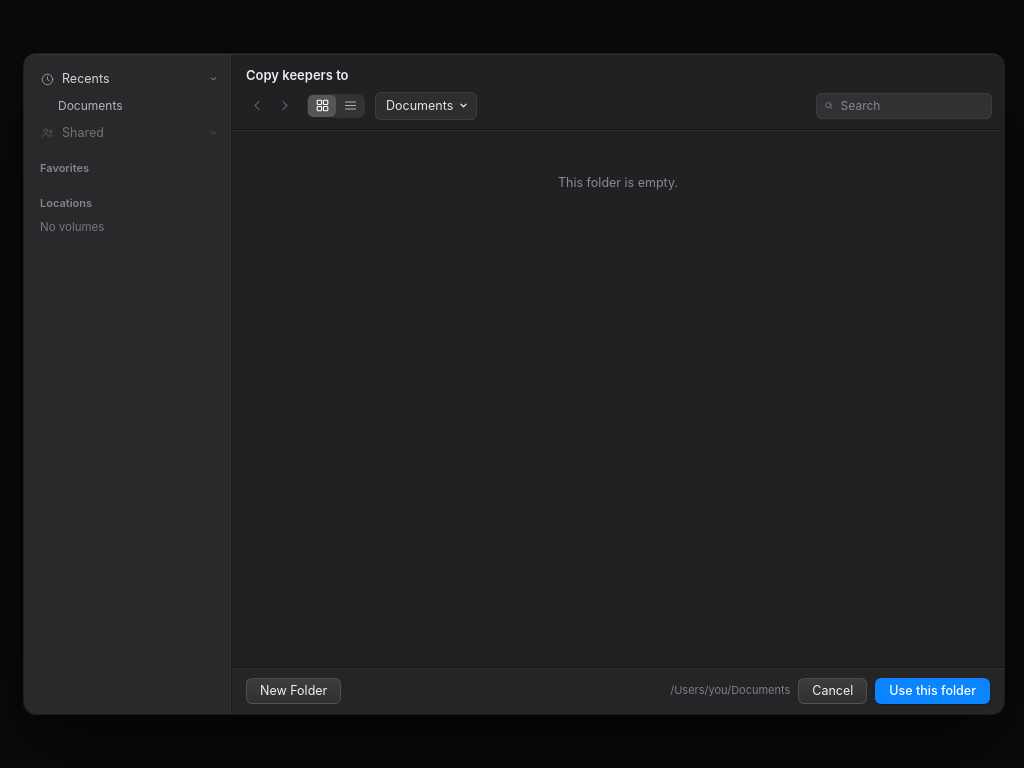
the New Folder prompt › a failed create keeps the prompt open with the error
The image size is (1024, 768).
Click the button "New Folder": (294, 691) [246,678,341,704]
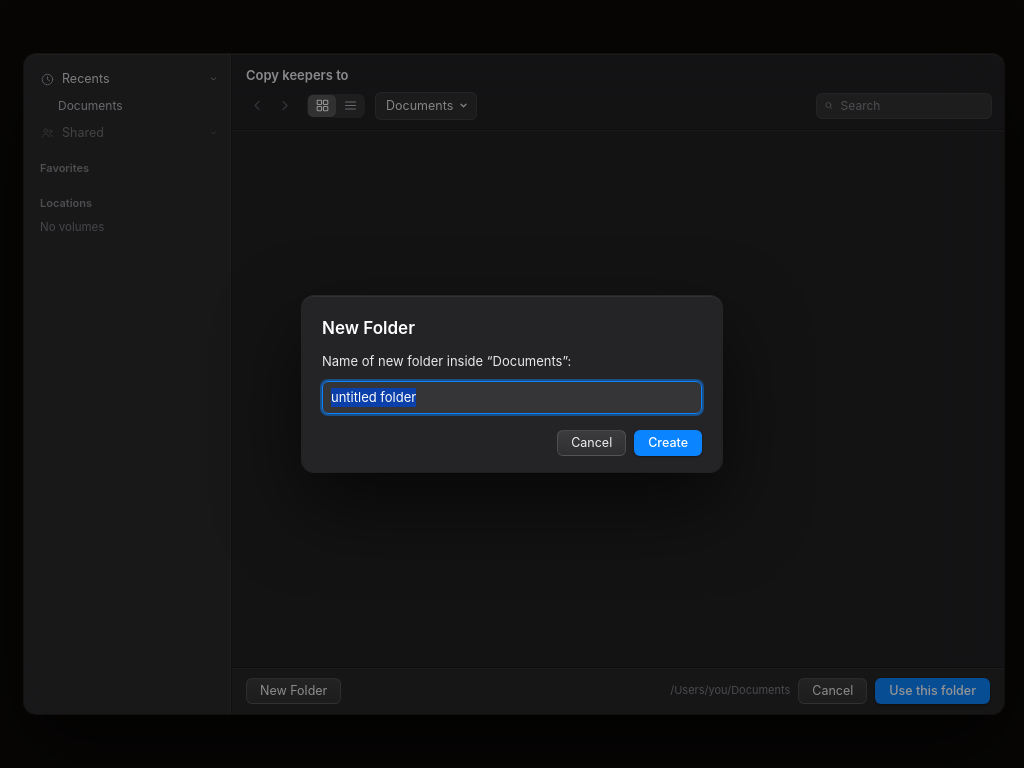
Replace the text in the field named "New folder name" with "delivery": (512, 398) [322,381,702,414]
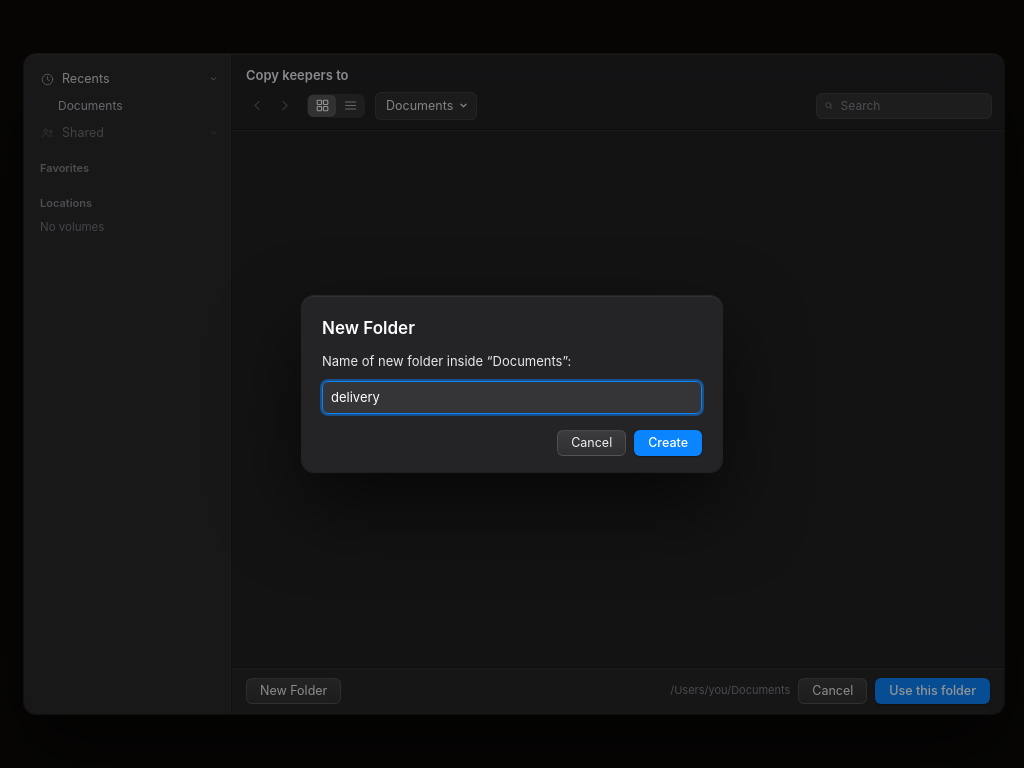
Click the button "Create": (668, 443) [634,430,702,456]
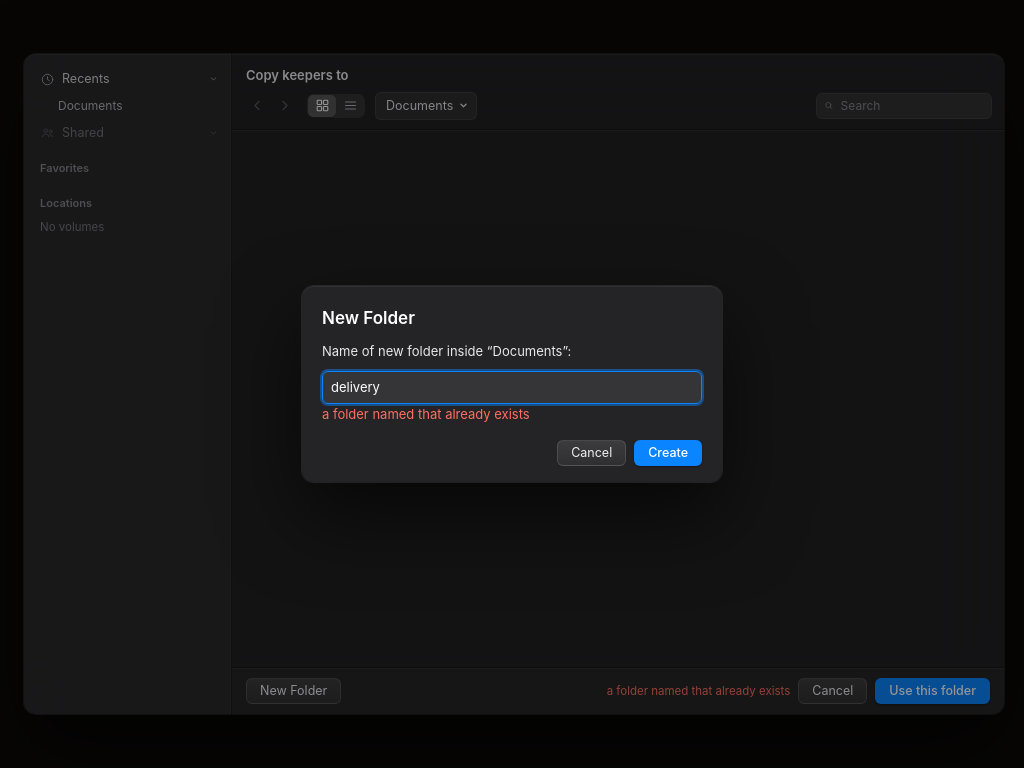
Expected: the dialog "New Folder" is shown, [302,286,722,482]
Expected: the text "a folder named that already exists" is shown, [322,406,530,422]
